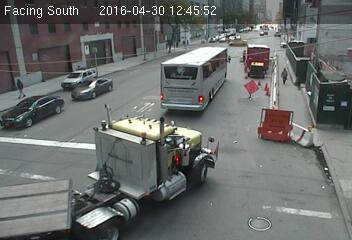neg: (83, 112, 137, 184), (266, 102, 312, 164), (161, 137, 205, 195), (2, 154, 38, 202), (257, 181, 280, 211), (50, 58, 73, 88), (239, 95, 261, 126), (193, 81, 214, 109), (253, 50, 272, 76), (132, 53, 149, 76), (189, 36, 203, 54)
pos: (9, 74, 27, 99), (276, 62, 294, 85)
